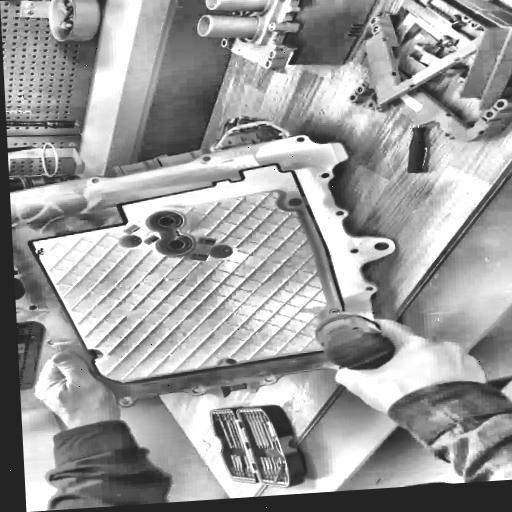bms_unit: (10, 116, 393, 407)
nut: (86, 344, 109, 359), (218, 245, 235, 255), (32, 246, 49, 256), (287, 197, 304, 206), (223, 356, 237, 365)
